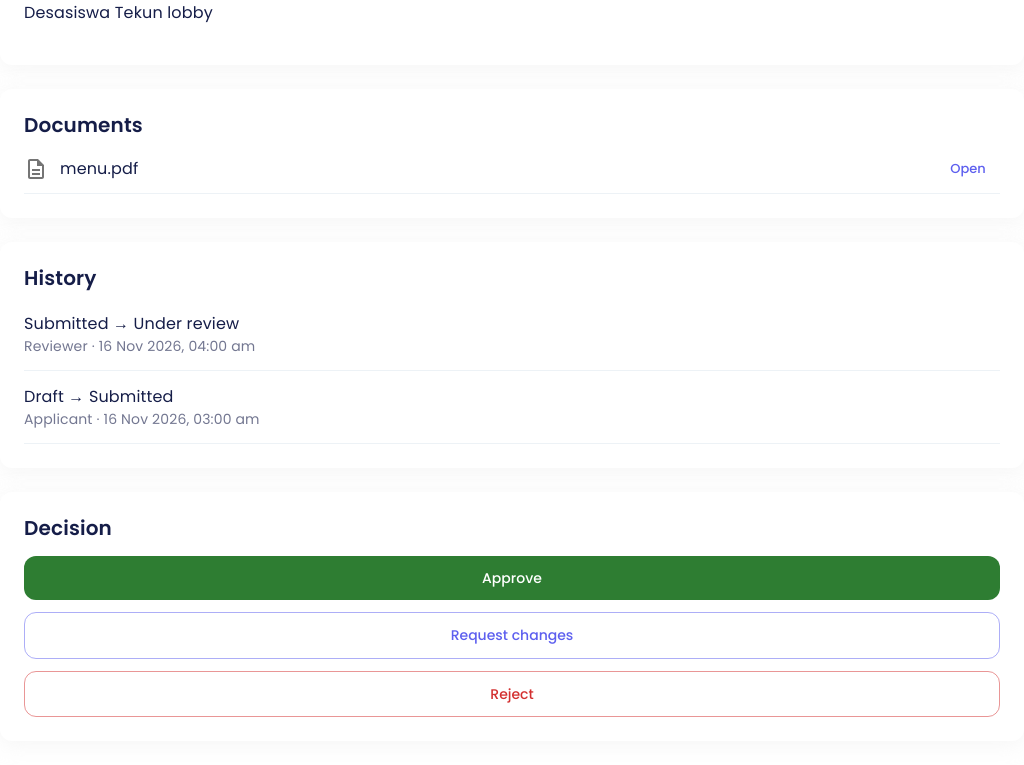
Test: ApplicationDetailPage › approving is confirmed, shows the disclaimer, and calls the database
The image size is (1024, 765).
Later steps or results of the test are not shown.
(page scrolled)
Click the button "Approve": x=512, y=578 [24,556,1000,600]
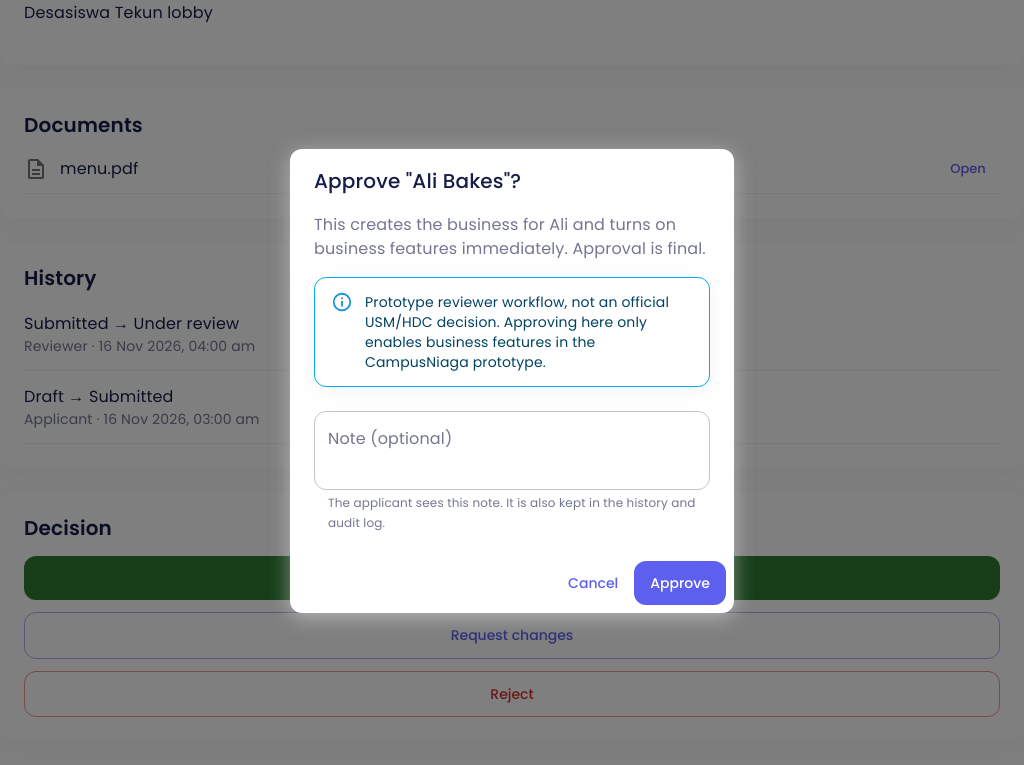
Result: the text "Approval is final" is shown at [314,213,706,260]
Result: the text "not an official USM/HDC decision" is shown at [365,292,669,372]
